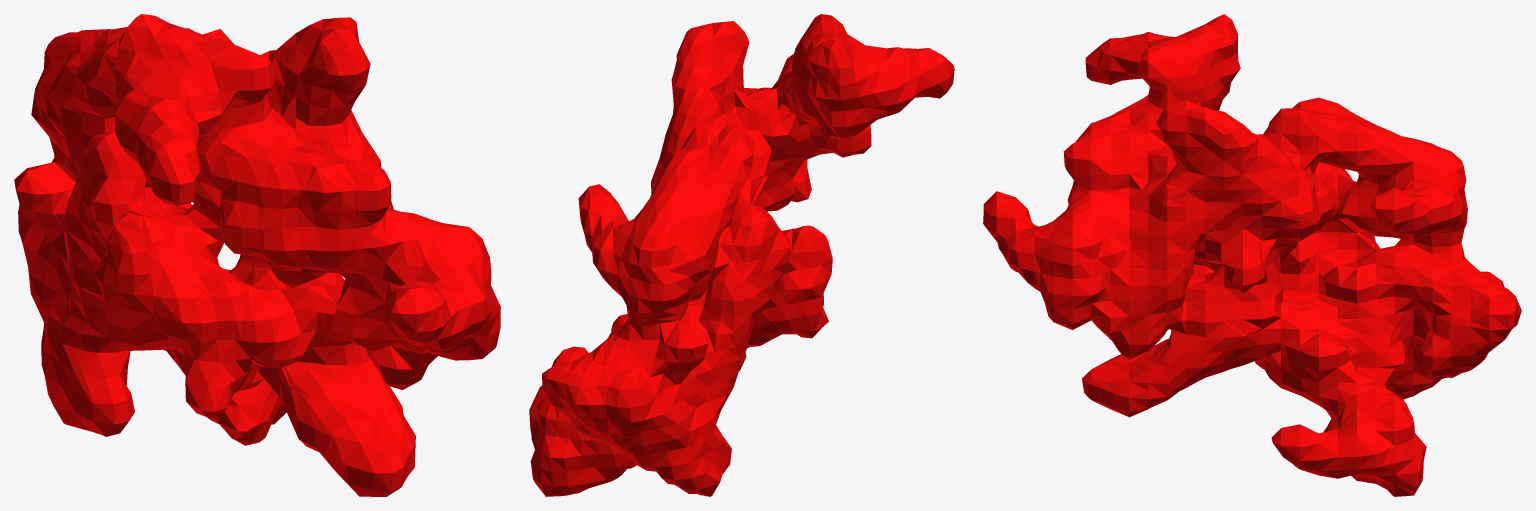
File: dksA_coarse.dae
The picture shows the model from 3 angles, left to right: view 1: azimuth 30°, elevation 25°; view 2: azimuth 150°, elevation 25°; view 3: azimuth 270°, elevation 25°; orthographic projection. The views are drawn at different scales.
Visible parts, largest first — view 1: dksA; view 2: dksA; view 3: dksA.
Boxes of the visible parts, bbox=[...] form: dksA: bbox=[14, 14, 500, 496]; dksA: bbox=[529, 14, 954, 496]; dksA: bbox=[983, 14, 1521, 496].
Size of the model in its own units: 98.47 by 138 by 168.
